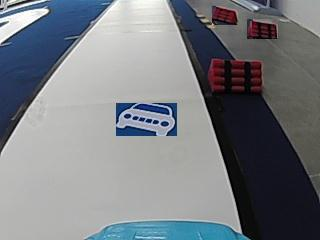bomb: (208, 60, 264, 92)
